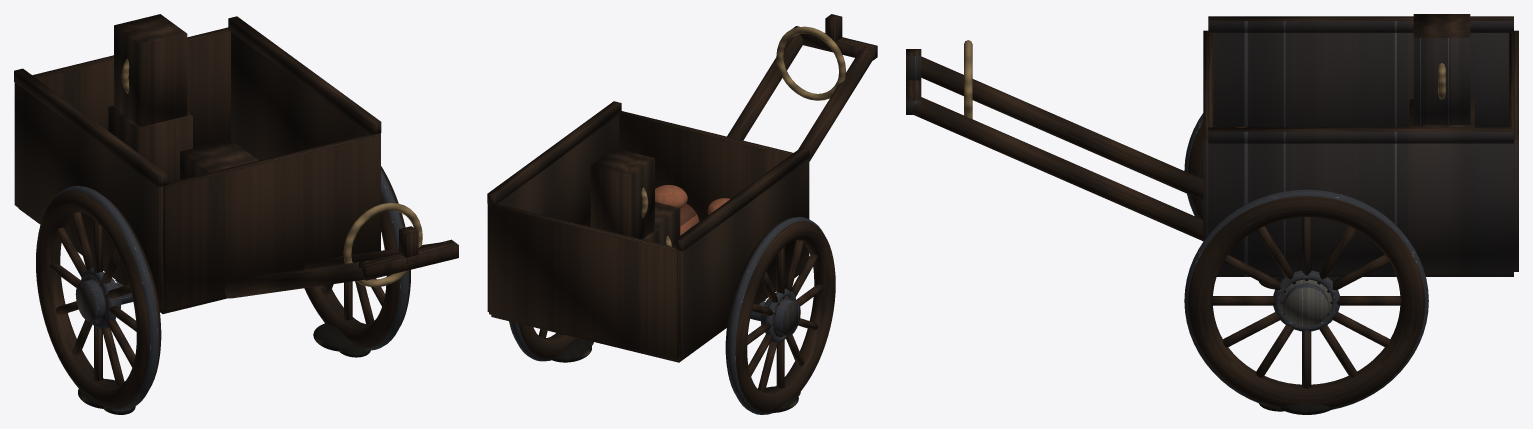
Rendered from supply-cart-hy3-v1.glb.
3 views of the same model, side by side, from view 1: azimuth 30°, elevation 25°; view 2: azimuth 150°, elevation 25°; view 3: azimuth 270°, elevation 25° (orthographic). The views are drawn at different scales.
Parts seen in each view (by area): view 1: cart_body, wheel_left, wheel_right; view 2: cart_body, wheel_left, wheel_right; view 3: cart_body, wheel_right, wheel_left.
Part boxes in pixels (box(x1,y1,x2,y2)): cart_body: box(14, 14, 458, 414); wheel_left: box(36, 186, 161, 411); wheel_right: box(304, 166, 410, 350); cart_body: box(487, 14, 877, 412); wheel_left: box(725, 217, 835, 414); wheel_right: box(509, 321, 578, 361); cart_body: box(906, 14, 1518, 414); wheel_right: box(1184, 189, 1428, 409); wheel_left: box(1184, 113, 1341, 278).
Bounding box in the file's own units: 1.58 × 1.61 × 2.81.
1 material, 1 textured.
